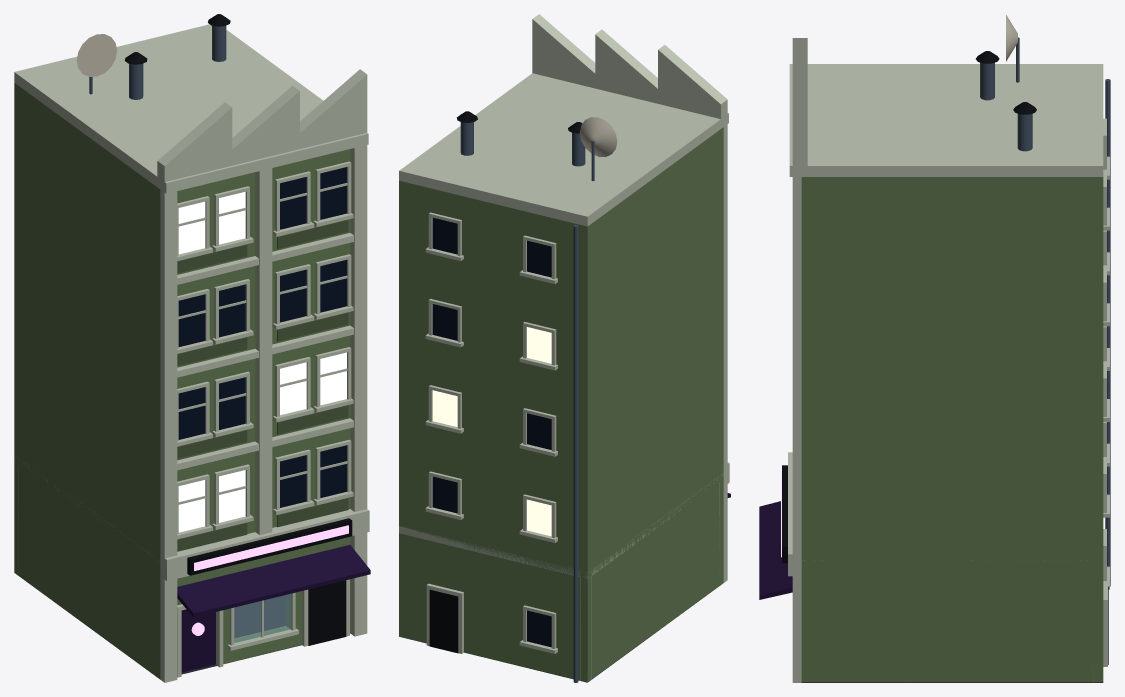
Rendered from row_saw.glb.
3 views of the same model, side by side, from view 1: azimuth 30°, elevation 25°; view 2: azimuth 150°, elevation 25°; view 3: azimuth 270°, elevation 25° (orthographic). The views are drawn at different scales.
Visible parts, largest first — view 1: row_saw, door_shop_leaf; view 2: row_saw; view 3: row_saw.
Part boxes in pixels (box(x1,y1,x2,y2)): row_saw: box(14, 14, 370, 682); door_shop_leaf: box(181, 609, 215, 672); row_saw: box(399, 14, 730, 682); row_saw: box(759, 15, 1110, 682).
Size of the model in its own units: 8 by 21.3 by 11.64.
